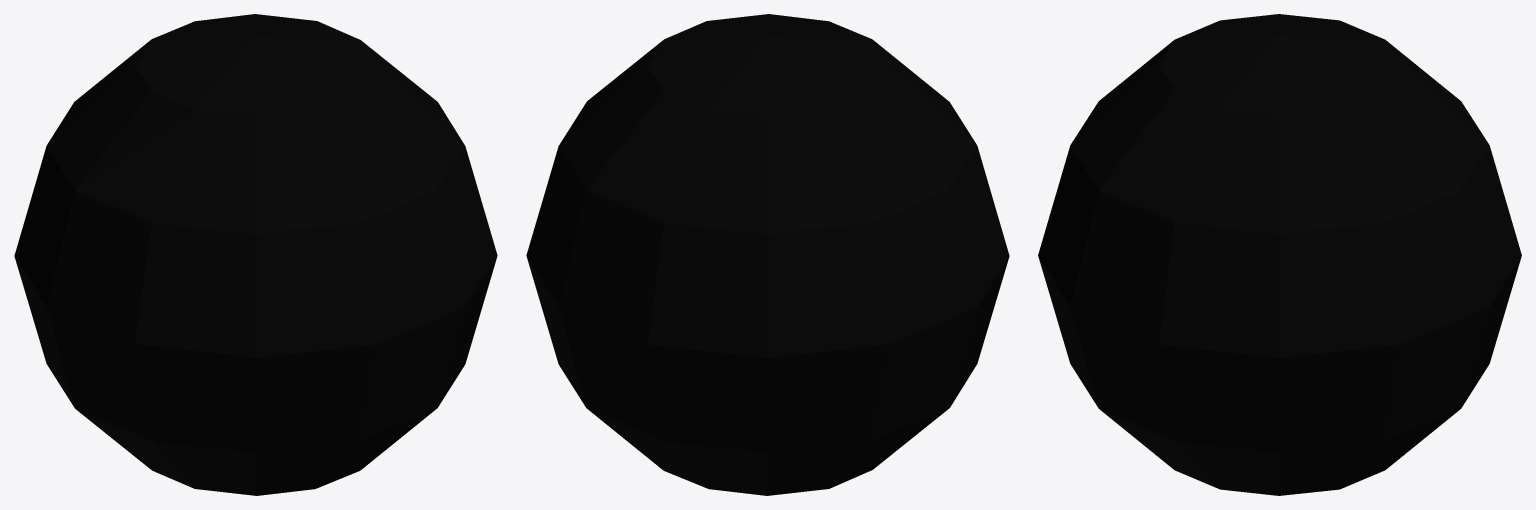
Rendered from empty.glb.
The picture shows the model from 3 angles, left to right: view 1: azimuth 30°, elevation 25°; view 2: azimuth 150°, elevation 25°; view 3: azimuth 270°, elevation 25°; orthographic projection.
Visible parts, largest first — view 1: empty; view 2: empty; view 3: empty.
Boxes of the visible parts, bbox=[...] form: empty: bbox=[14, 14, 497, 495]; empty: bbox=[526, 14, 1009, 495]; empty: bbox=[1038, 14, 1521, 495].
Bounding box in the file's own units: 2 × 2 × 2.
1 material, 1 textured.
